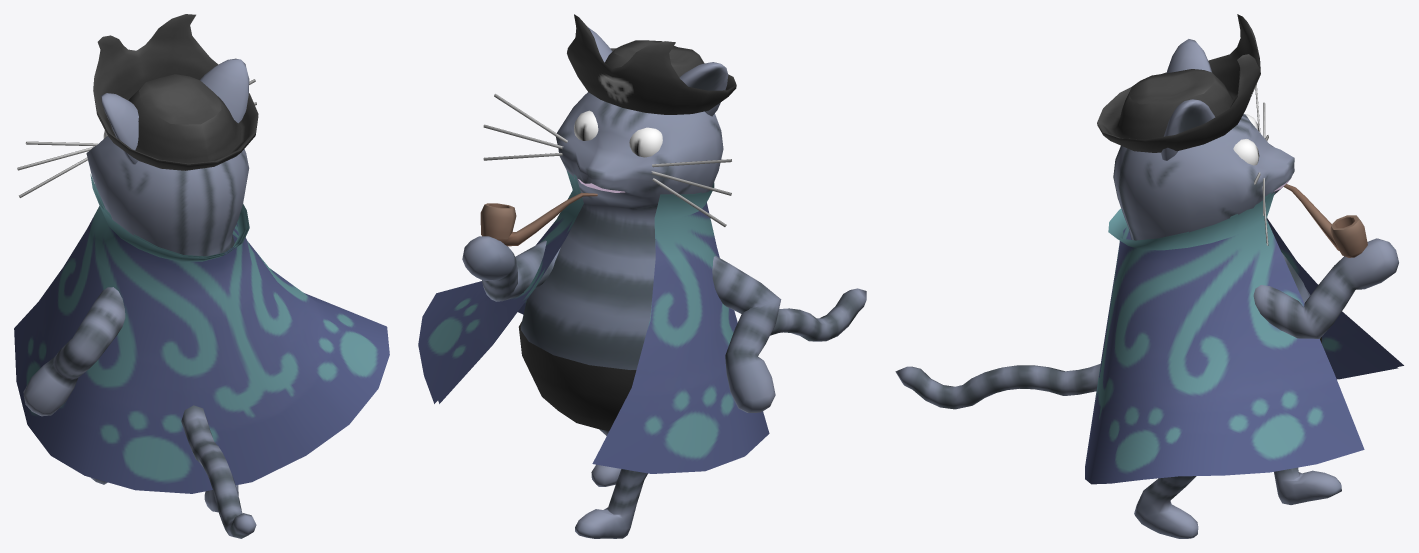
File: neko_walk_a_01.fbx
3 views of the same model, side by side, from view 1: azimuth 30°, elevation 25°; view 2: azimuth 150°, elevation 25°; view 3: azimuth 270°, elevation 25° (orthographic). The views are drawn at different scales.
Visible parts, largest first — view 1: W_a_01; view 2: W_a_01; view 3: W_a_01.
Boxes of the visible parts, <box> form: W_a_01: <box>14,14,389,538</box>; W_a_01: <box>418,14,866,538</box>; W_a_01: <box>895,14,1403,538</box>.
Size of the model in its own units: 1.47 by 1.93 by 1.86.
Materials: 1 (1 with a texture image).
